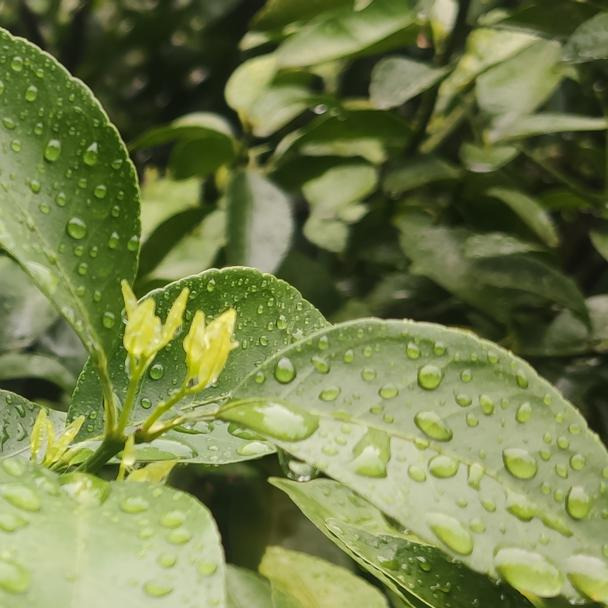shoot: (121, 284, 190, 388), (178, 313, 238, 393)
